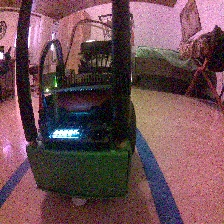rob: (23, 38, 136, 206)
